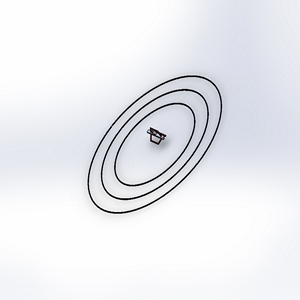circle: (80, 70, 229, 215)
submarine: (144, 120, 170, 152)
